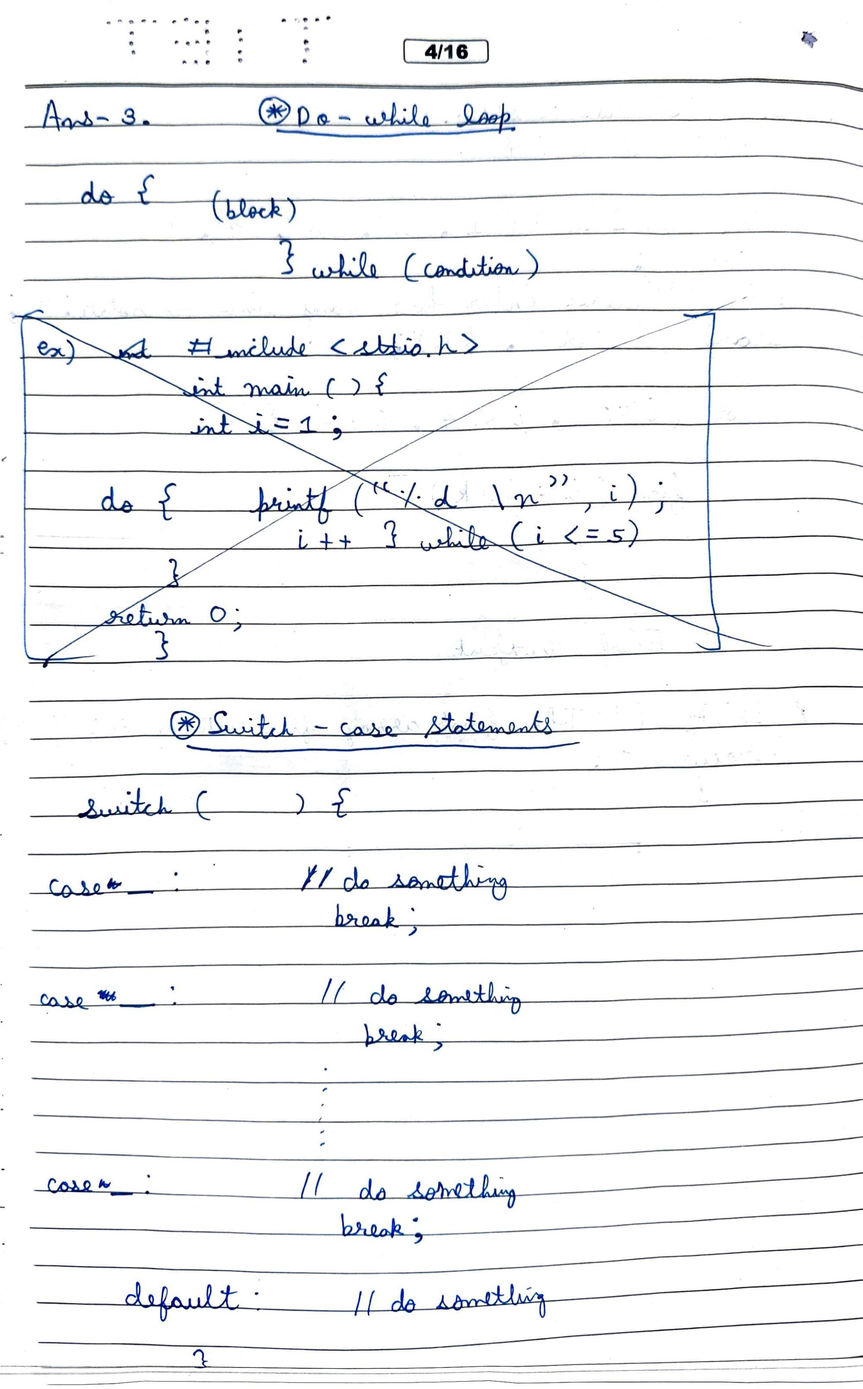cuttings: (7, 286, 793, 674), (94, 987, 119, 1004), (104, 875, 124, 892), (97, 1175, 113, 1190)
